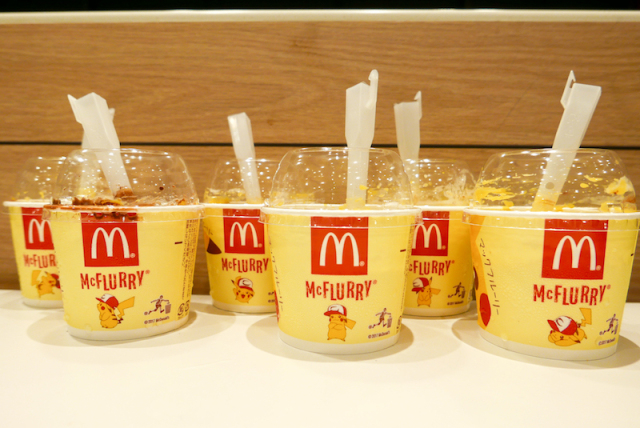mcdonalds: (310, 230, 367, 276), (547, 232, 600, 273), (85, 227, 132, 262), (225, 220, 262, 248)
